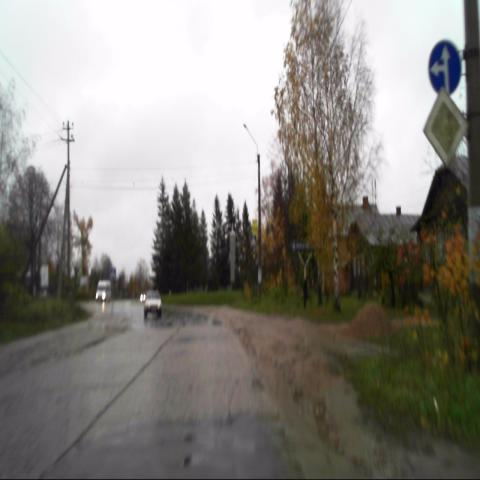4_1_5: (428, 41, 460, 97)
